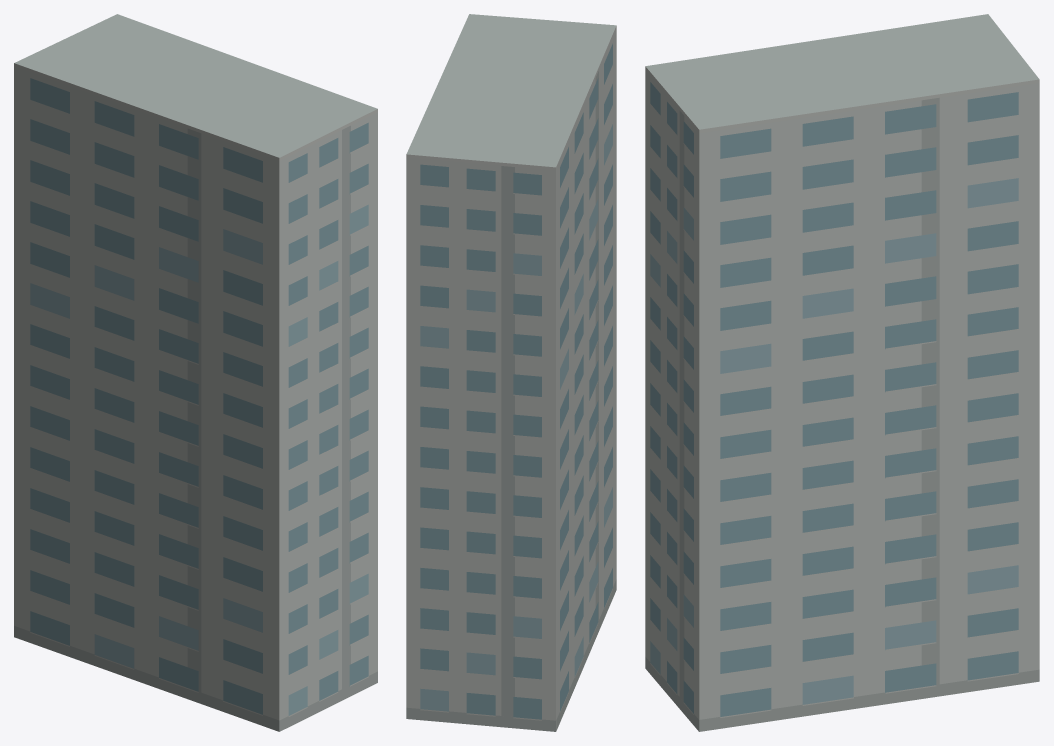
Rendered from residential-805db82a-fbcd-4c73-b0c6-05704608f47c.glb.
3 views of the same model, side by side, from view 1: azimuth 30°, elevation 25°; view 2: azimuth 150°, elevation 25°; view 3: azimuth 270°, elevation 25° (orthographic). The views are drawn at different scales.
Visible parts, largest first — view 1: residential-805db82a-fbcd-4c73-b0c6-05704608f47c.tmp; view 2: residential-805db82a-fbcd-4c73-b0c6-05704608f47c.tmp; view 3: residential-805db82a-fbcd-4c73-b0c6-05704608f47c.tmp.
Boxes of the visible parts, box(x1,y1,x2,y2) form: residential-805db82a-fbcd-4c73-b0c6-05704608f47c.tmp: box(14, 14, 377, 731); residential-805db82a-fbcd-4c73-b0c6-05704608f47c.tmp: box(406, 14, 616, 731); residential-805db82a-fbcd-4c73-b0c6-05704608f47c.tmp: box(645, 14, 1039, 731).
Bounding box in the file's own units: 17.32 × 42 × 24.94.
